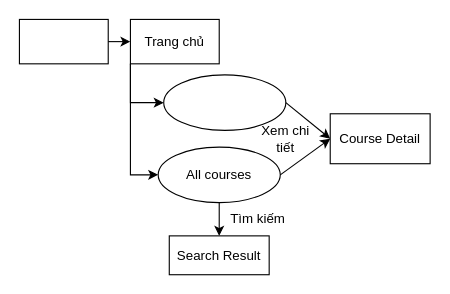
Image size: 450x294. Some labels were removed from this diagram. Here are the shapes that lost their labels. From the top down, the centre of each, then its label:
At point (63, 41): "Đăng nhập".
At point (224, 102): "Recommended Courses".
